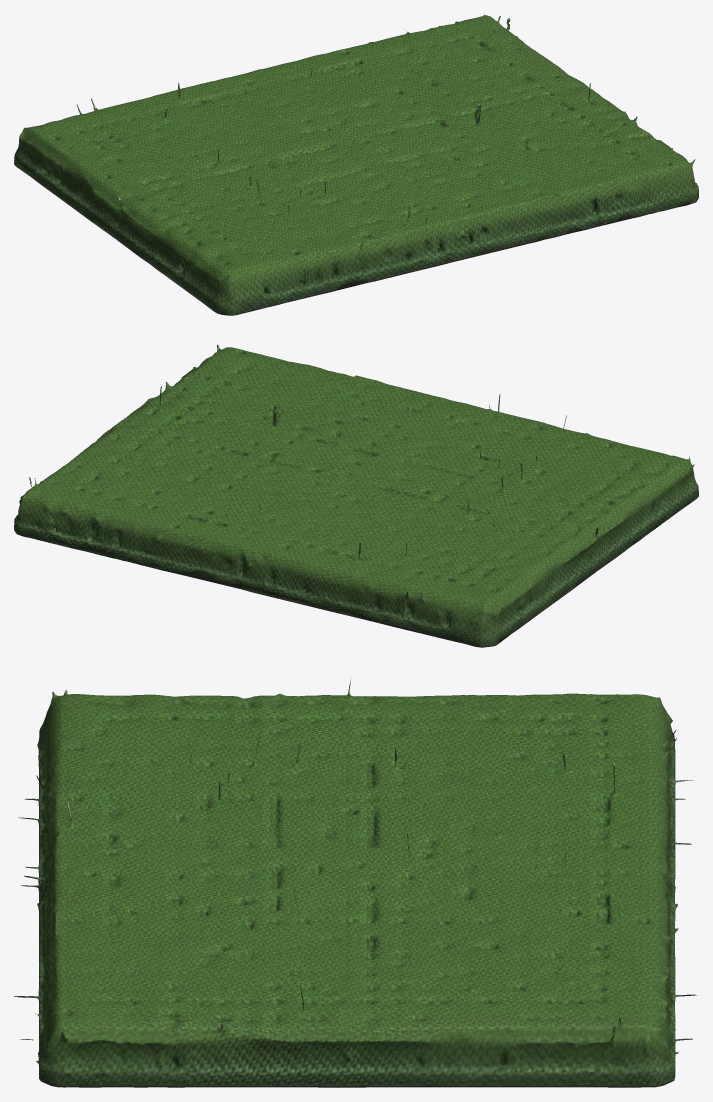
Rendered from grass_patch_short.glb.
The picture shows the model from 3 angles, top to bottom: view 1: azimuth 30°, elevation 25°; view 2: azimuth 150°, elevation 25°; view 3: azimuth 270°, elevation 25°; orthographic projection. The views are drawn at different scales.
Visible parts, largest first — view 1: model; view 2: model; view 3: model.
Boxes of the visible parts, x1,y1,x2,y2 form: model: (14, 14, 698, 315); model: (14, 344, 698, 647); model: (14, 676, 696, 1087).
Bounding box in the file's own units: 1.82 × 0.2375 × 1.47.
Materials: 1 (1 with a texture image).
